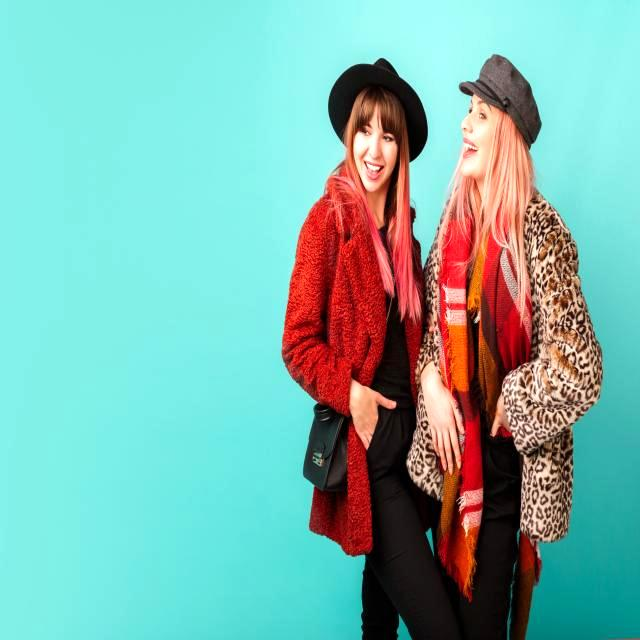no_hard_hat: (328, 58, 428, 161), (459, 54, 541, 148)
person: (407, 55, 603, 640), (282, 59, 434, 640)
